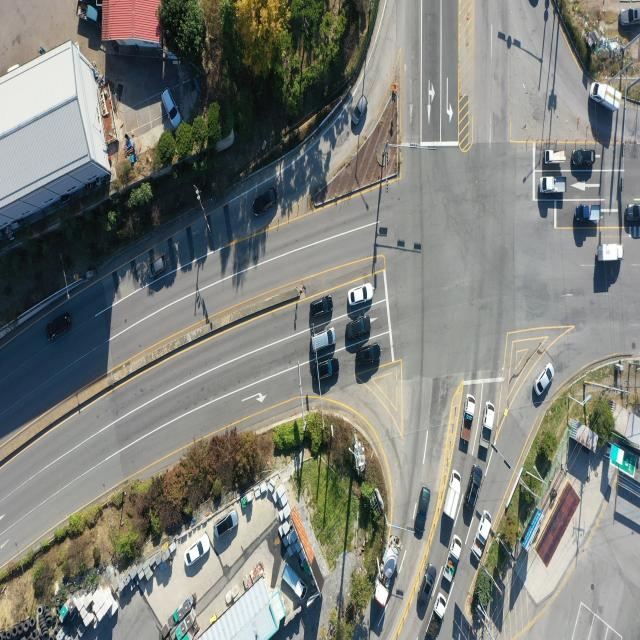car: (414, 486, 431, 538), (420, 564, 439, 606), (48, 312, 74, 342), (161, 91, 180, 132), (351, 90, 370, 131), (184, 536, 208, 568), (468, 462, 482, 515), (256, 190, 280, 220), (536, 362, 556, 396), (312, 357, 339, 382), (309, 329, 336, 354), (215, 512, 237, 541), (348, 283, 373, 307), (346, 318, 370, 343), (356, 343, 381, 366), (310, 298, 334, 319), (571, 148, 595, 167), (149, 258, 166, 282), (619, 7, 640, 26), (625, 203, 640, 222)
medium_truck: (374, 535, 400, 607)
small_truck: (421, 595, 448, 640), (440, 468, 462, 523), (480, 400, 497, 458), (459, 394, 475, 455), (590, 81, 621, 112), (280, 564, 307, 597), (443, 537, 461, 584), (74, 0, 100, 25), (476, 510, 494, 544), (540, 176, 567, 195), (576, 204, 602, 223), (600, 243, 624, 263), (545, 149, 567, 164)
